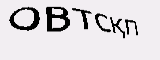В: (44, 6, 73, 33)
О: (8, 6, 40, 30)
П: (123, 19, 139, 37)
С: (94, 13, 111, 33)
Т: (71, 7, 94, 30)
Қ: (108, 15, 126, 38)
